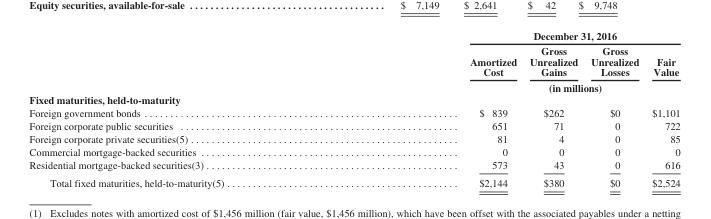table: (28, 29, 679, 188)
table column: (28, 29, 346, 188), (346, 29, 522, 188), (522, 29, 583, 188), (583, 29, 644, 188), (644, 29, 679, 188)
table column header: (28, 29, 679, 93)
table projected row header: (28, 93, 679, 106)
table row: (28, 42, 679, 79), (28, 158, 679, 173), (28, 173, 679, 188), (28, 79, 679, 93), (28, 29, 679, 42), (28, 93, 679, 106), (28, 106, 679, 119), (28, 119, 679, 132), (28, 132, 679, 145), (28, 145, 679, 158)
table spanning cell: (346, 79, 679, 93), (346, 29, 679, 42)
